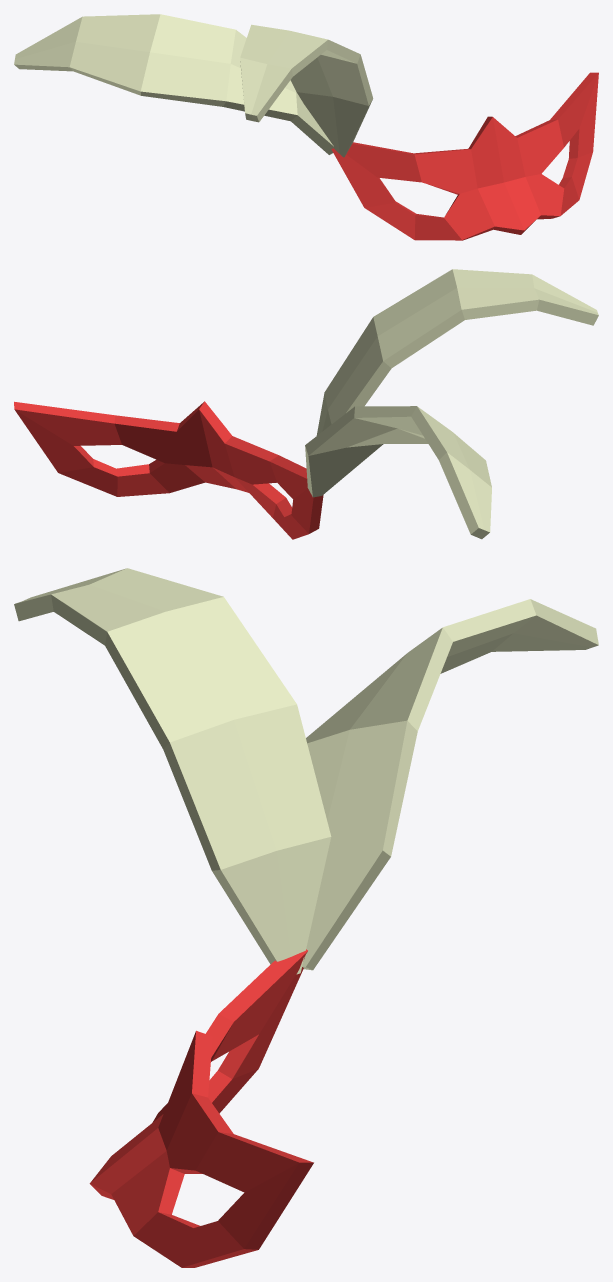
Rendered from emumaskwithfeathers.fbx.
The picture shows the model from 3 angles, top to bottom: view 1: azimuth 30°, elevation 25°; view 2: azimuth 150°, elevation 25°; view 3: azimuth 270°, elevation 25°; orthographic projection. The views are drawn at different scales.
Parts seen in each view (by area): view 1: Mask; view 2: Mask; view 3: Mask.
Boxes of the visible parts, box(x1,y1,x2,y2) form: Mask: box(14, 14, 598, 240); Mask: box(14, 269, 598, 539); Mask: box(14, 568, 598, 1267).
Size of the model in its own units: 54.4 by 25.68 by 32.57.
